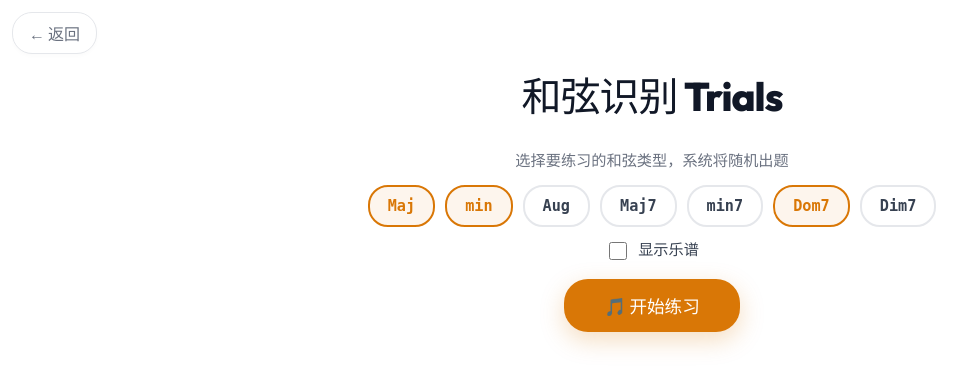
Scenario: StageSelector patterns/和弦 random-practice branch › disables start and shows the hint when the selection is empty
Clear the three default chips (Maj, min, Dom7).
Step 1. Click the button "Maj" → x=401, y=206, box [368, 185, 435, 227]
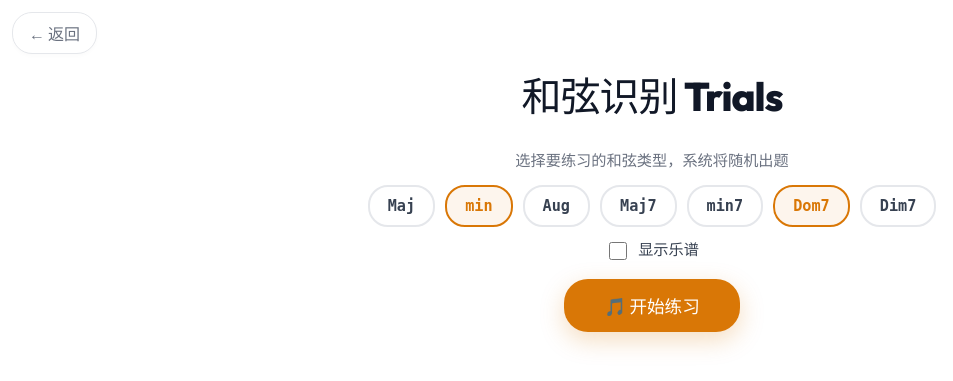
Step 2. Click the button "min" → x=479, y=206, box [445, 185, 512, 227]
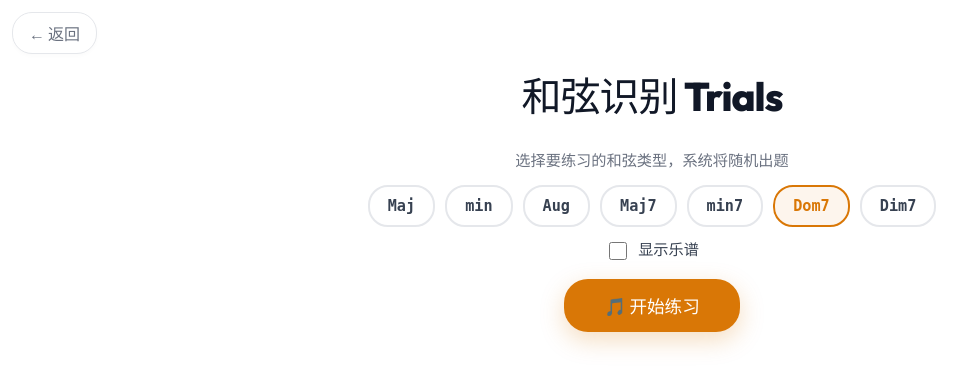
Step 3. Click the button "Dom7" → x=812, y=206, box [773, 185, 850, 227]
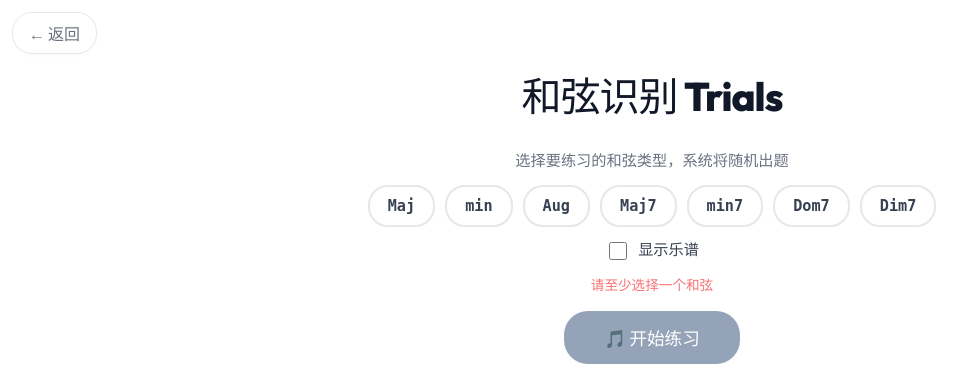
Expected: the text "请至少选择一个和弦" is shown, [591, 275, 713, 295]
Expected: the button "🎵 开始练习" is disabled, [564, 311, 740, 364]
